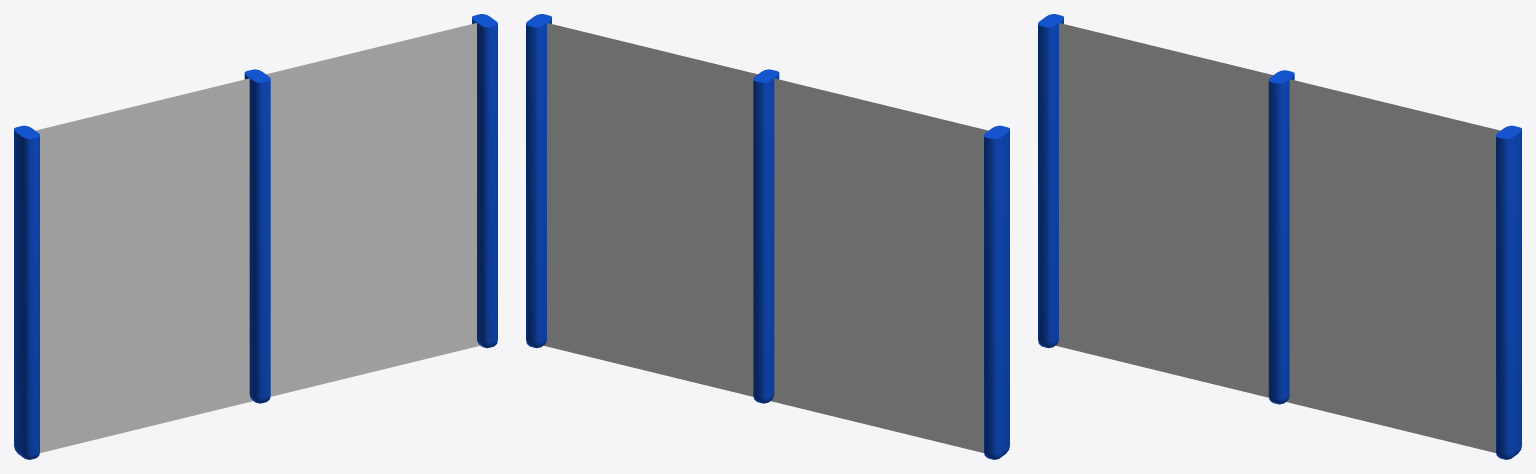
Rendered from GATE .fbx.
3 renders of one model, left to right at view 1: azimuth 30°, elevation 25°; view 2: azimuth 150°, elevation 25°; view 3: azimuth 330°, elevation 25°, orthographic.
Visible parts, largest first — view 1: Plane.001, Cube.008, Cube.010, Cube.009; view 2: Plane.001, Cube.008, Cube.010, Cube.009; view 3: Plane.001, Cube.009, Cube.010, Cube.008.
Boxes of the visible parts, <box> form: Plane.001: <box>36,23,479,452</box>; Cube.008: <box>14,125,39,459</box>; Cube.010: <box>244,69,270,403</box>; Cube.009: <box>472,14,497,348</box>; Plane.001: <box>544,23,987,452</box>; Cube.008: <box>984,125,1009,459</box>; Cube.010: <box>753,69,779,403</box>; Cube.009: <box>526,14,551,348</box>; Plane.001: <box>1056,23,1499,452</box>; Cube.009: <box>1496,125,1521,459</box>; Cube.010: <box>1268,70,1294,404</box>; Cube.008: <box>1038,14,1063,348</box>.
Size of the model in its own units: 306 by 200 by 17.81.
